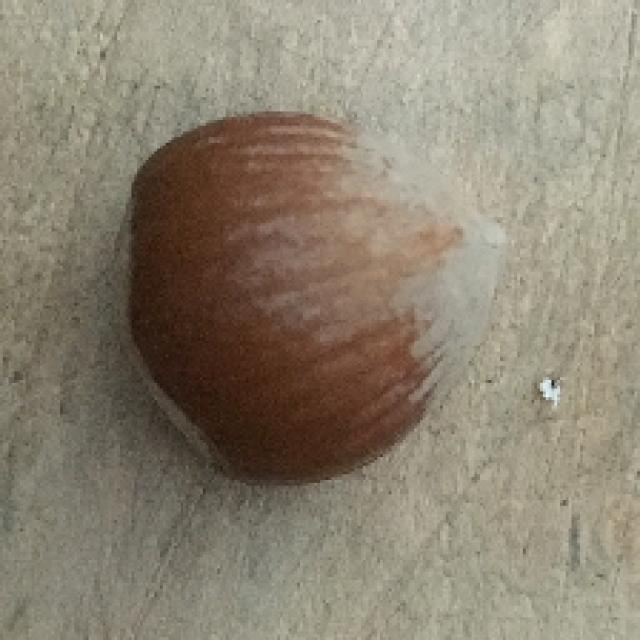qualityHazelnut: (108, 113, 509, 486)
